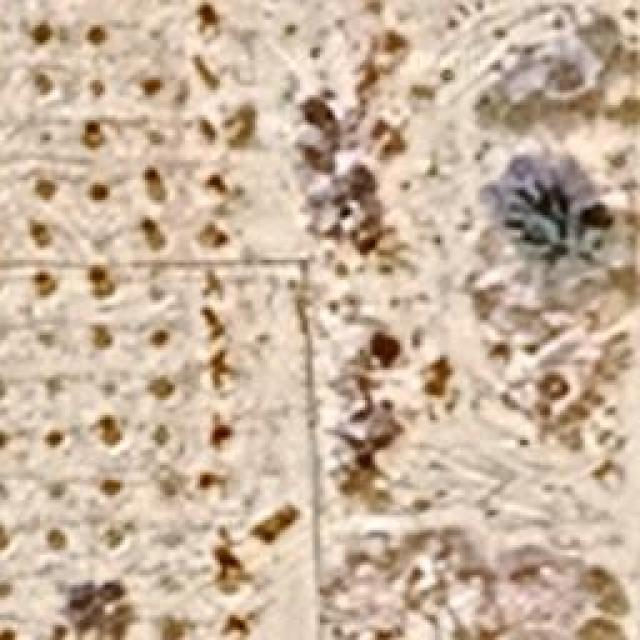PalmTree: (496, 184, 614, 274)
